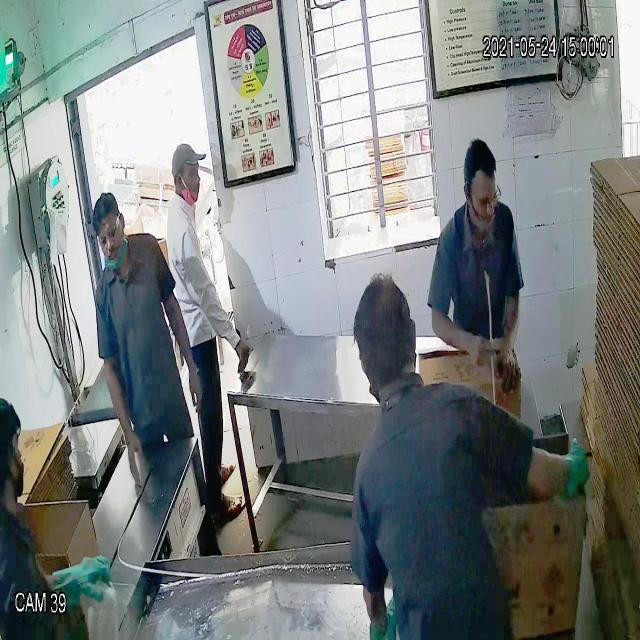glasses: (93, 218, 123, 252)
